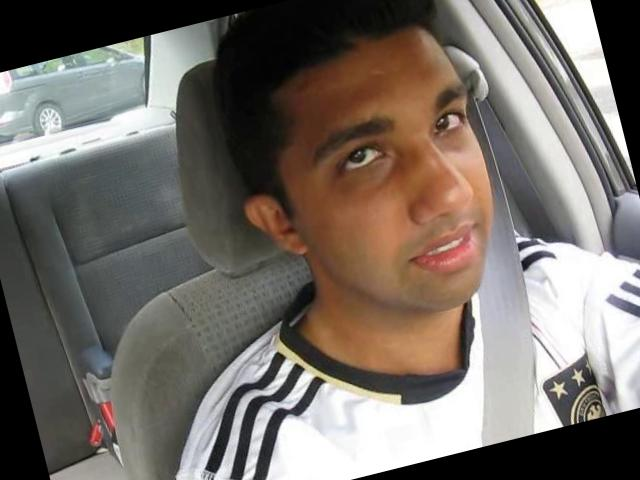eye_open: (326, 136, 396, 185), (427, 102, 472, 142)
face: (282, 56, 526, 338)
